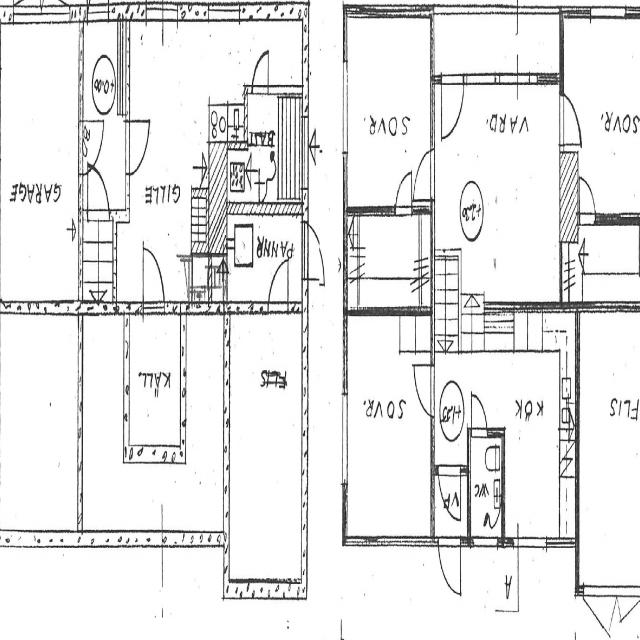door: (583, 584, 614, 640), (300, 222, 330, 278), (438, 466, 461, 533), (613, 584, 640, 640), (87, 156, 109, 220), (439, 537, 460, 599), (144, 249, 164, 314), (125, 120, 150, 172), (442, 72, 462, 135), (78, 122, 103, 172), (410, 149, 434, 199), (410, 365, 434, 415), (269, 252, 288, 314), (561, 97, 583, 144), (252, 44, 268, 94), (580, 178, 596, 225), (396, 166, 411, 216), (472, 391, 487, 438), (174, 259, 192, 297), (41, 0, 70, 21), (13, 0, 42, 21), (88, 0, 108, 21)
